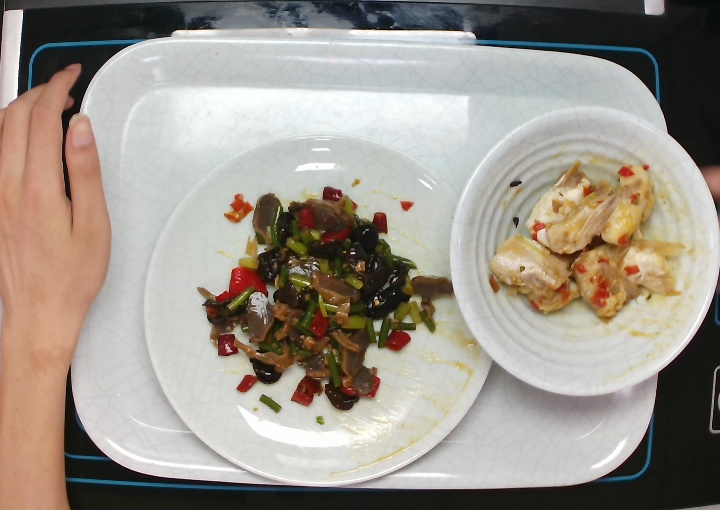JYsf-Da_Yuan_Pan: (134, 124, 488, 492)
JYsf-Xiao_Tang_Wan: (443, 101, 720, 404)
